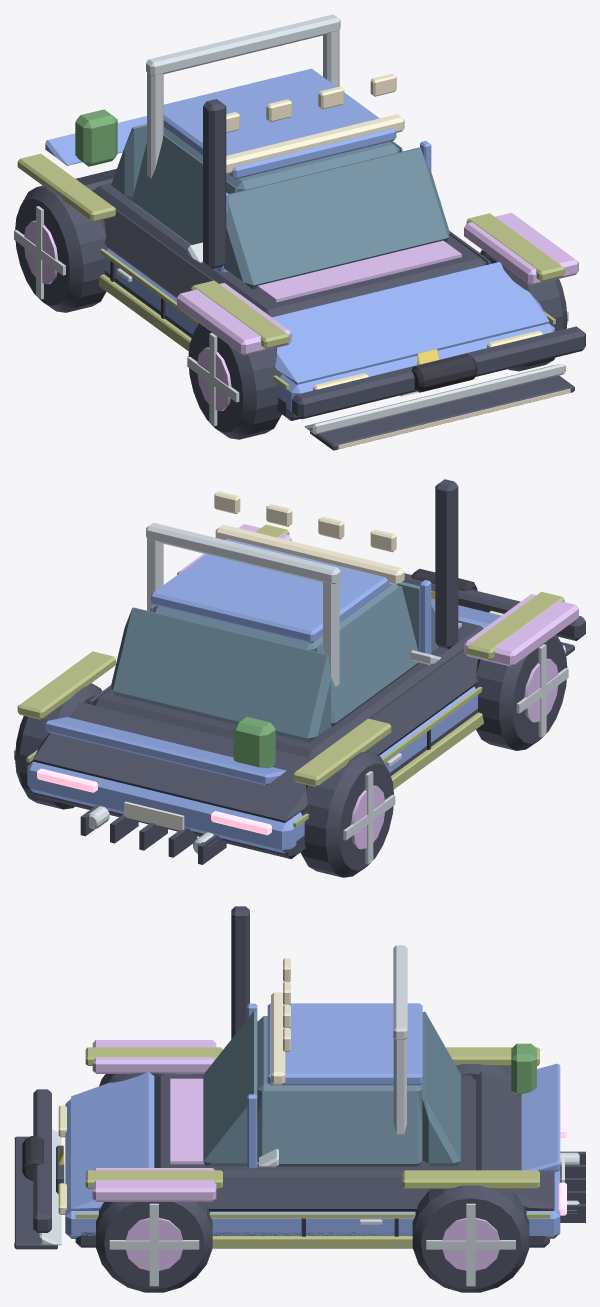
The model's file is gravel_ghoul.fbx.
3 renders of one model, top to bottom at view 1: azimuth 30°, elevation 25°; view 2: azimuth 150°, elevation 25°; view 3: azimuth 270°, elevation 25°, orthographic. The views are drawn at different scales.
Parts seen in each view (by area): view 1: Body, Glass, Trim, Accent3, Accent2, Accent, Wheel_RR, Wheel_FR, Light, Metal, Light4, Accent5 (+4 smaller); view 2: Trim, Glass, Body, Accent, Wheel_RR, Accent2, Wheel_FR, Accent3, Metal, Light4, Wheel_RL, Metal2 (+5 smaller); view 3: Body, Trim, Glass, Accent, Accent3, Wheel_RL, Wheel_FL, Accent2, Metal, Metal2, Accent5, Light4 (+5 smaller).
Part boxes in pixels (x1,y1,x2,y2): Body: (45,68,554,411); Glass: (111,123,449,289); Trim: (76,99,585,450); Accent3: (177,212,578,355); Accent2: (146,14,565,434); Accent: (17,153,564,389); Wheel_RR: (15,185,107,312); Wheel_FR: (188,323,281,439); Light: (226,74,570,448); Metal: (14,206,568,426); Light4: (226,114,404,174); Accent5: (75,109,117,166); Trim: (33,479,585,864); Glass: (111,582,439,742); Body: (27,538,501,853); Accent: (17,524,564,827); Wheel_RR: (300,750,393,877); Accent2: (146,522,565,686); Wheel_FR: (474,634,567,750); Accent3: (177,524,578,666); Metal: (14,644,568,864); Light4: (215,524,404,585); Wheel_RL: (15,683,101,809); Metal2: (351,658,558,849); Body: (65,1003,560,1238); Trim: (14,906,585,1249); Glass: (203,1011,460,1166); Accent: (75,1047,550,1248); Accent3: (92,1040,258,1201); Wheel_RL: (412,1185,529,1292); Wheel_FL: (96,1202,212,1292); Accent2: (39,945,407,1245); Metal: (109,1152,579,1286); Metal2: (125,1218,499,1270); Accent5: (511,1043,536,1095); Light4: (271,992,285,1084).
Size of the model in its own units: 3.46 by 2.83 by 5.55.
